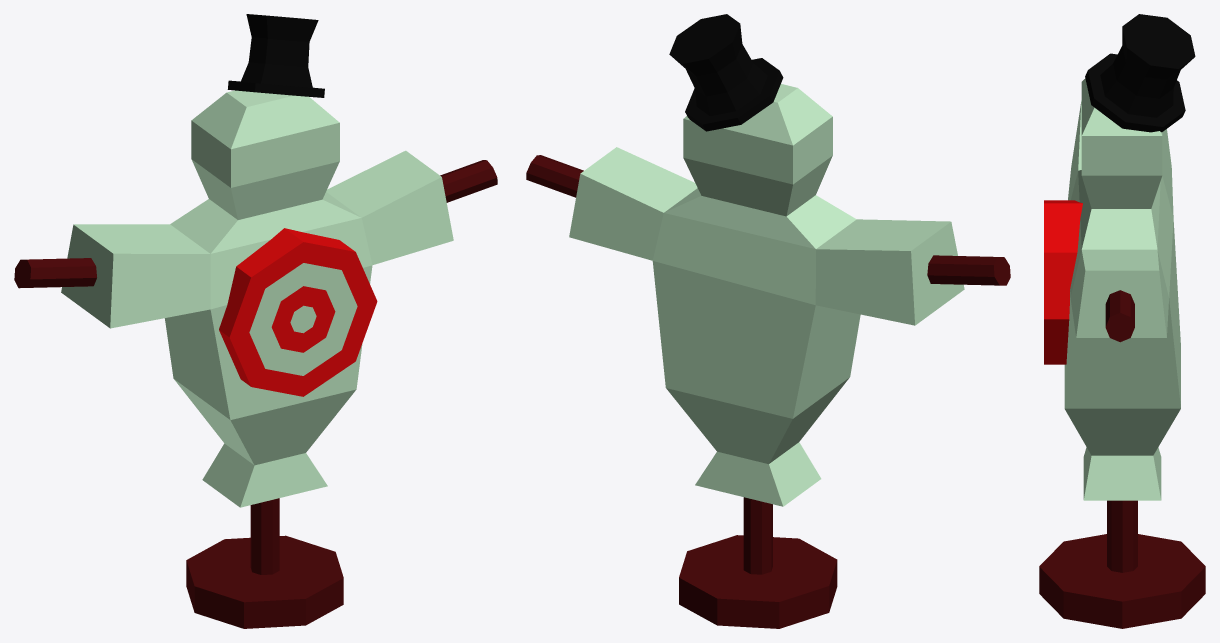
Rendered from Training_Dummy.fbx.
3 renders of one model, left to right at view 1: azimuth 30°, elevation 25°; view 2: azimuth 150°, elevation 25°; view 3: azimuth 270°, elevation 25°, orthographic. The views are drawn at different scales.
Parts seen in each view (by area): view 1: Cube; view 2: Cube; view 3: Cube.
Part boxes in pixels (bbox=[...]): Cube: bbox=[14, 14, 497, 628]; Cube: bbox=[526, 14, 1010, 628]; Cube: bbox=[1039, 14, 1205, 628].
Size of the model in its own units: 352 by 406 by 105.
